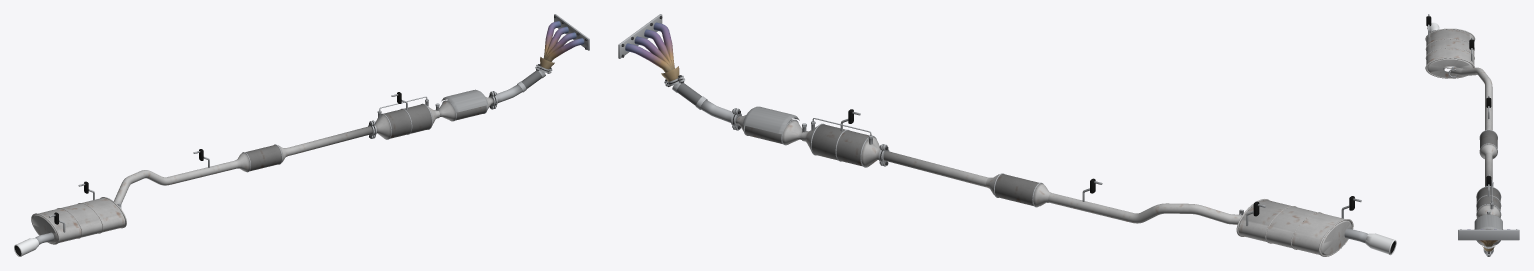
The model's file is exhaust-hi-v1.glb.
The picture shows the model from 3 angles, left to right: view 1: azimuth 30°, elevation 25°; view 2: azimuth 150°, elevation 25°; view 3: azimuth 270°, elevation 25°; orthographic projection. The views are drawn at different scales.
Parts seen in each view (by area): view 1: muffler, midpipe, dpf, manifold, catalyst, resonator, tailpipe, hangers, downpipe; view 2: muffler, midpipe, dpf, manifold, catalyst, resonator, tailpipe, hangers, downpipe; view 3: muffler, manifold, midpipe, dpf, catalyst, resonator, hangers, tailpipe.
Part boxes in pixels (<box>): muffler: <box>31,197,126,244</box>; midpipe: <box>114,126,372,204</box>; dpf: <box>368,96,439,139</box>; manifold: <box>535,14,589,73</box>; catalyst: <box>435,89,493,121</box>; resonator: <box>235,144,288,172</box>; tailpipe: <box>14,232,54,256</box>; hangers: <box>49,92,407,232</box>; downpipe: <box>489,84,522,109</box>; muffler: <box>1236,199,1353,256</box>; midpipe: <box>883,151,1241,224</box>; dpf: <box>801,118,889,167</box>; manifold: <box>618,14,684,86</box>; catalyst: <box>735,106,806,145</box>; resonator: <box>986,173,1051,207</box>; tailpipe: <box>1344,228,1396,255</box>; hangers: <box>840,109,1361,225</box>; downpipe: <box>700,100,741,130</box>; muffler: <box>1425,28,1475,78</box>; manifold: <box>1458,229,1519,256</box>; midpipe: <box>1450,67,1492,186</box>; dpf: <box>1476,180,1501,217</box>; catalyst: <box>1474,210,1502,245</box>; resonator: <box>1479,129,1497,158</box>; hangers: <box>1426,14,1491,196</box>; tailpipe: <box>1427,22,1439,32</box>.
Bounding box in the file's own units: 3.92 × 0.4243 × 0.612.
Materials: 10 (2 with a texture image).
